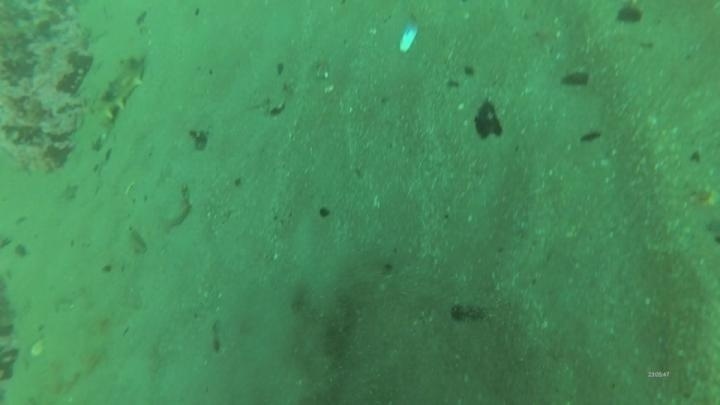holothurian: (81, 49, 151, 134)
